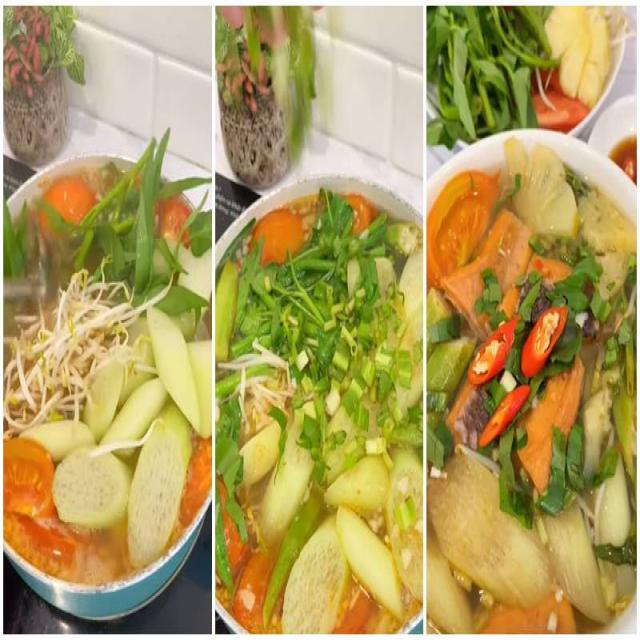canh chua: (428, 139, 635, 633), (3, 129, 214, 570), (216, 188, 422, 633)
